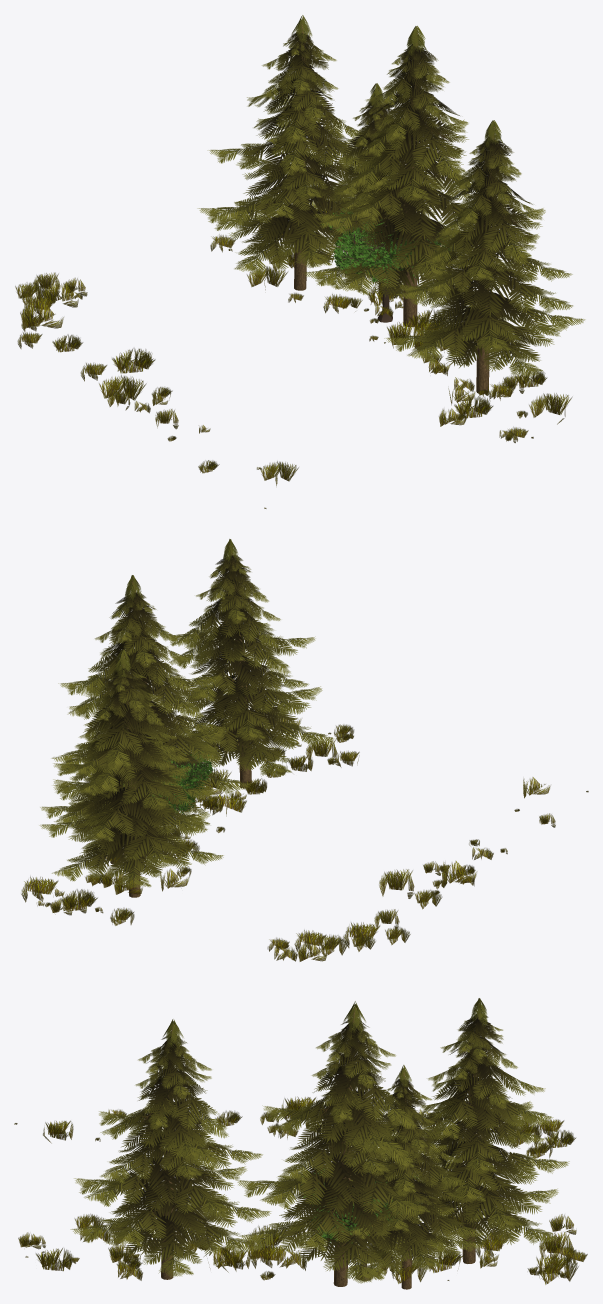
The picture shows the model from 3 angles, top to bottom: view 1: azimuth 30°, elevation 25°; view 2: azimuth 150°, elevation 25°; view 3: azimuth 270°, elevation 25°; orthographic projection. The views are drawn at different scales.
Parts seen in each view (by area): view 1: Low Poly Stylized 2D Grass.3110; view 2: Low Poly Stylized 2D Grass.3110; view 3: Low Poly Stylized 2D Grass.3110.
Part boxes in pixels (box(x1,y1,x2,y2)): Low Poly Stylized 2D Grass.3110: box(15, 15, 585, 508); Low Poly Stylized 2D Grass.3110: box(21, 539, 588, 961); Low Poly Stylized 2D Grass.3110: box(14, 998, 587, 1289).
Size of the model in its own units: 21.46 by 13.68 by 24.53.
5 materials, 4 textured.
